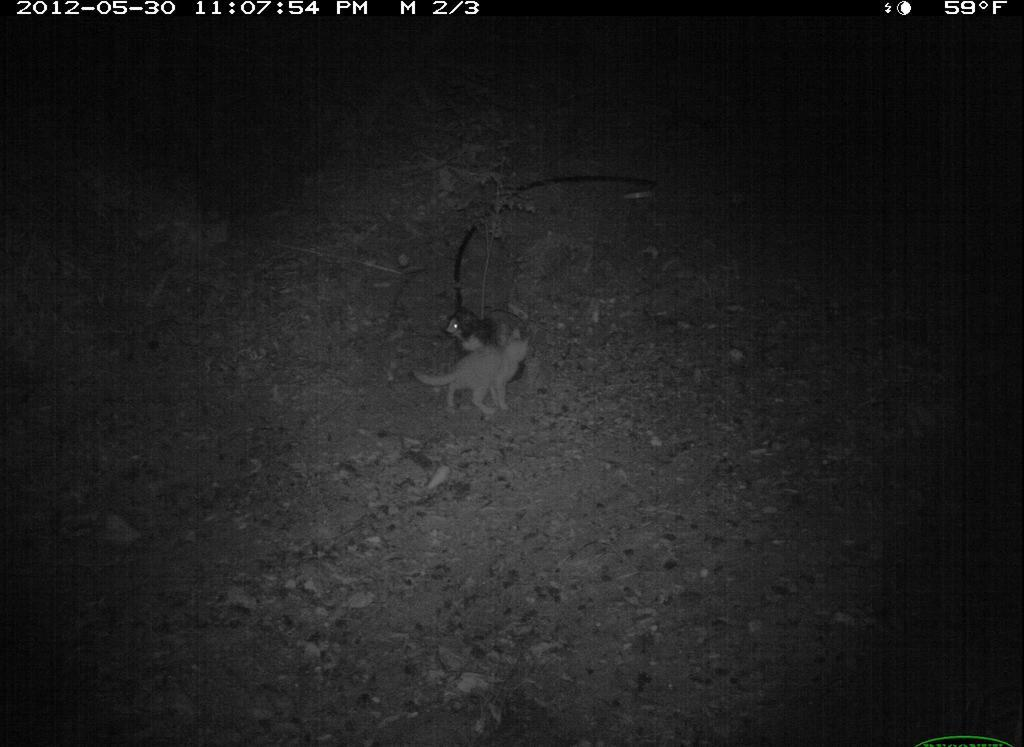cat: (411, 326, 542, 420), (440, 303, 533, 388)
